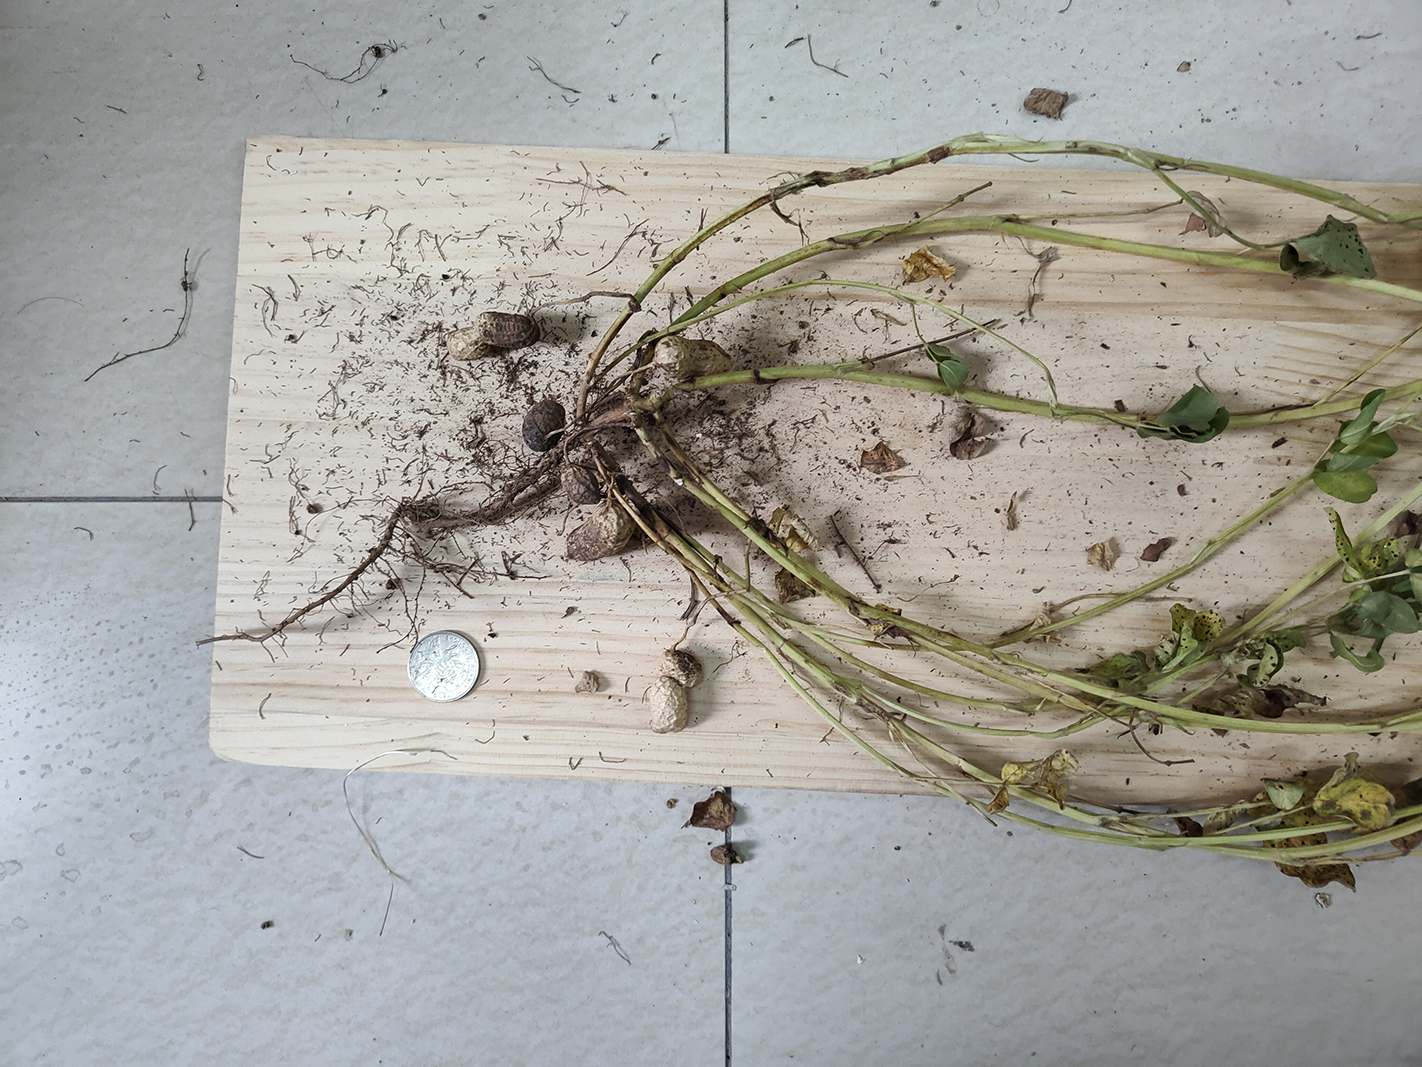h: (649, 649, 701, 734), (656, 336, 732, 375)
l: (446, 310, 539, 361), (564, 502, 636, 562), (522, 400, 564, 449), (563, 467, 600, 505)
